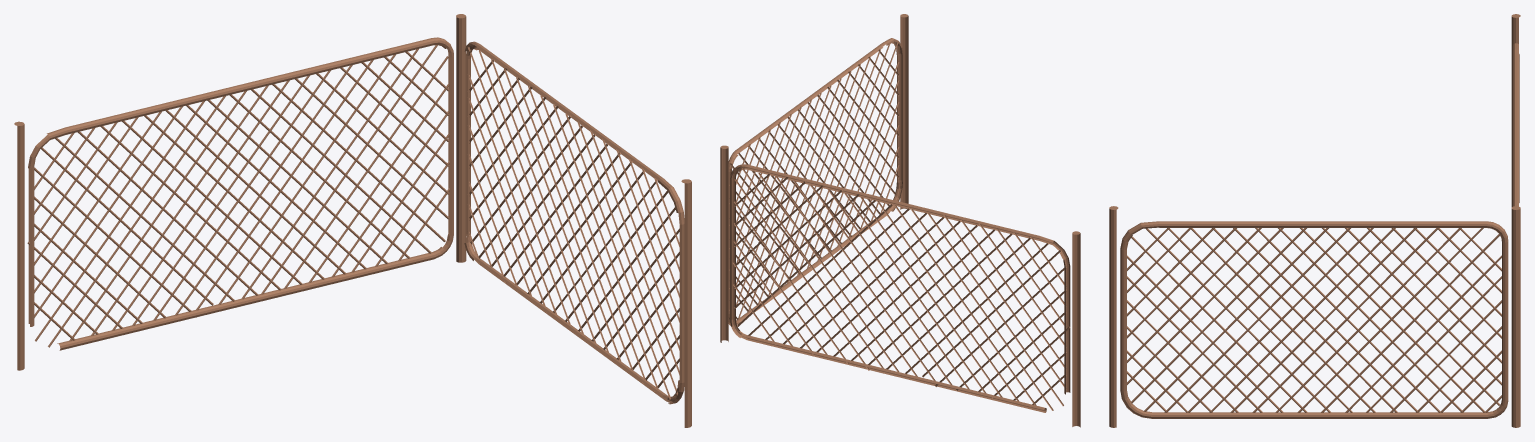
The model's file is MetalFenceFBX.fbx.
3 renders of one model, left to right at view 1: azimuth 30°, elevation 25°; view 2: azimuth 150°, elevation 25°; view 3: azimuth 270°, elevation 25°, orthographic. The views are drawn at different scales.
Visible parts, largest first — view 1: FencePost05, FencePost04, FencePost02, FenceLink08 (×3), FenceLink13 (×3), FenceLink14 (×3), FenceLink12 (×3), FenceLink10 (×3), FenceLink11 (×3), FenceLink15 (×3), FenceLink09 (×3), FenceLink16 (×3) (+7 smaller); view 2: FencePost05, FencePost04, FencePost02, FencePost03, FenceLink15 (×3), FenceLink13 (×3), FenceLink10 (×3), FenceLink14 (×3), FenceLink16 (×3), FenceLink12 (×3), FenceLink08 (×3), FenceLink11 (×3) (+10 smaller); view 3: FencePost04, FencePost02, FencePost01, FenceLink16 (×2), FenceLink15 (×2), FencePost05, FenceLink09 (×2), FenceLink14 (×2), FenceLink08 (×2), FenceLink07 (×2), FenceLink11 (×2), FenceLink10 (×2) (+9 smaller).
Boxes of the visible parts, x1,y1,x2,y2 form: FencePost05: [28, 37, 453, 350]; FencePost04: [464, 41, 684, 404]; FencePost02: [456, 14, 466, 262]; FenceLink08 (×3): [48, 89, 670, 399]; FenceLink13 (×3): [122, 59, 596, 344]; FenceLink14 (×3): [132, 75, 621, 362]; FenceLink12 (×3): [100, 50, 583, 335]; FenceLink10 (×3): [111, 80, 633, 371]; FenceLink11 (×3): [91, 85, 645, 380]; FenceLink15 (×3): [144, 68, 609, 353]; FenceLink09 (×3): [69, 91, 658, 389]; FenceLink16 (×3): [77, 47, 570, 325]; FencePost05: [730, 164, 1070, 412]; FencePost04: [728, 38, 902, 325]; FencePost02: [720, 145, 728, 342]; FencePost03: [1072, 231, 1080, 427]; FenceLink15 (×3): [786, 57, 977, 389]; FenceLink13 (×3): [797, 49, 995, 385]; FenceLink10 (×3): [768, 71, 1002, 397]; FenceLink14 (×3): [778, 64, 986, 393]; FenceLink16 (×3): [775, 43, 1030, 376]; FenceLink12 (×3): [794, 44, 1012, 380]; FenceLink08 (×3): [737, 93, 1053, 410]; FenceLink11 (×3): [757, 78, 1019, 401]; FencePost04: [1120, 221, 1508, 418]; FencePost02: [1511, 206, 1520, 427]; FencePost01: [1109, 206, 1118, 427]; FenceLink16 (×2): [1131, 234, 1499, 412]; FenceLink15 (×2): [1190, 228, 1438, 412]; FencePost05: [1512, 43, 1519, 206]; FenceLink09 (×2): [1164, 228, 1464, 412]; FenceLink14 (×2): [1212, 228, 1416, 412]; FenceLink08 (×2): [1143, 228, 1485, 412]; FenceLink07 (×2): [1131, 228, 1500, 405]; FenceLink11 (×2): [1188, 228, 1440, 412]; FenceLink10 (×2): [1209, 228, 1419, 412].
Size of the model in its own units: 2.51 by 1.3 by 2.22.
